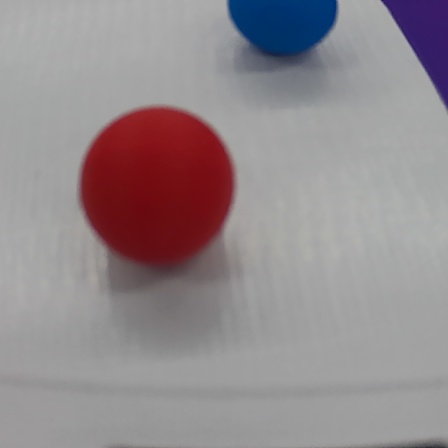blue: (219, 2, 353, 66)
red: (75, 103, 241, 265)
